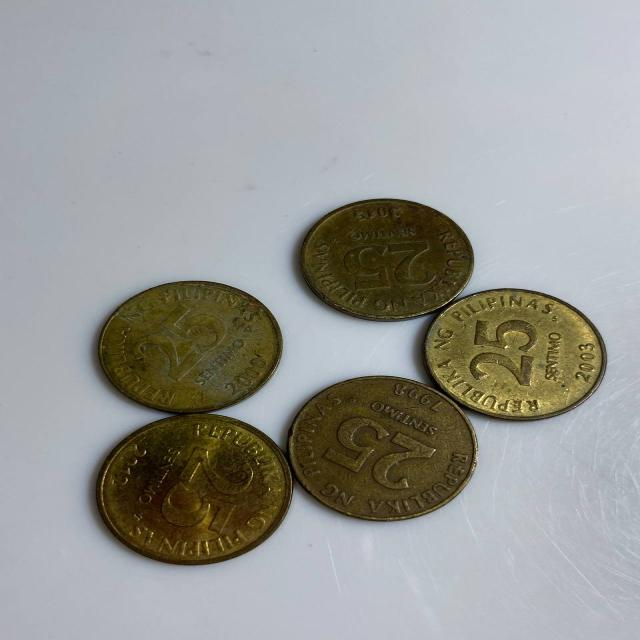25Cent_Old_Front: (165, 445, 256, 539), (328, 419, 431, 492), (137, 307, 223, 377), (466, 316, 538, 391), (339, 237, 432, 291)
